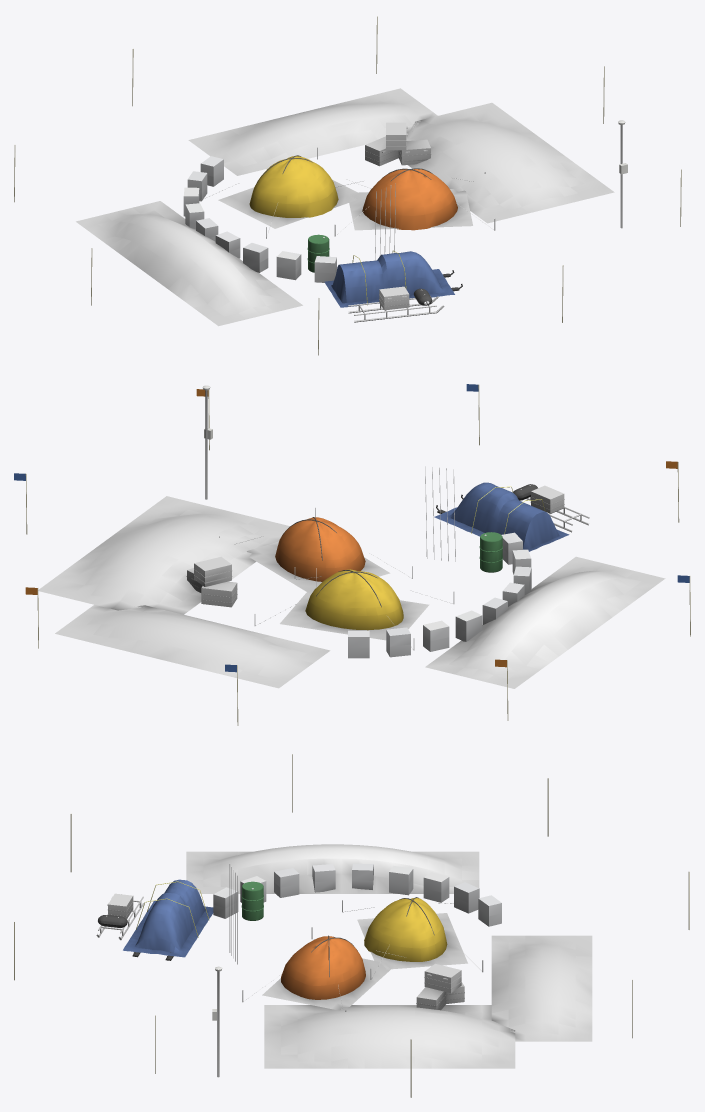
Rendered from glacier_camp.glb.
3 views of the same model, one above another, from view 1: azimuth 30°, elevation 25°; view 2: azimuth 150°, elevation 25°; view 3: azimuth 270°, elevation 25° (orthographic). The views are drawn at different scales.
Parts seen in each view (by area): view 1: main, detail; view 2: main, detail; view 3: main, detail.
Boxes of the visible parts, <box> form: main: <box>76,88,627,326</box>; detail: <box>14,16,681,355</box>; main: <box>38,385,665,688</box>; detail: <box>14,384,690,725</box>; main: <box>96,844,592,1077</box>; detail: <box>14,754,689,1097</box>.
Size of the model in its own units: 18.09 by 3.18 by 17.79.
